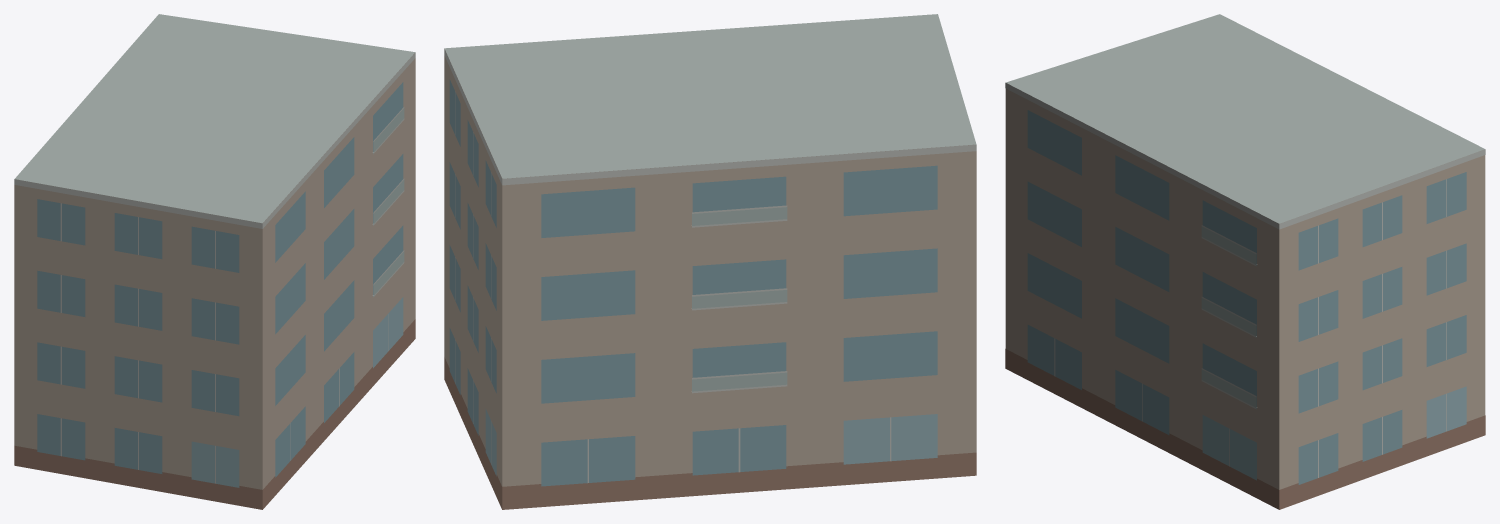
File: survey-upis-32845687.glb
The picture shows the model from 3 angles, left to right: view 1: azimuth 30°, elevation 25°; view 2: azimuth 150°, elevation 25°; view 3: azimuth 270°, elevation 25°; orthographic projection. The views are drawn at different scales.
Parts seen in each view (by area): view 1: survey-upis-32845687.tmp; view 2: survey-upis-32845687.tmp; view 3: survey-upis-32845687.tmp.
Part boxes in pixels (x1,y1,x2,y2): survey-upis-32845687.tmp: (14,14,415,509); survey-upis-32845687.tmp: (444,14,976,509); survey-upis-32845687.tmp: (1005,14,1485,509).
Bounding box in the file's own units: 19.2 × 12.2 × 18.56.
